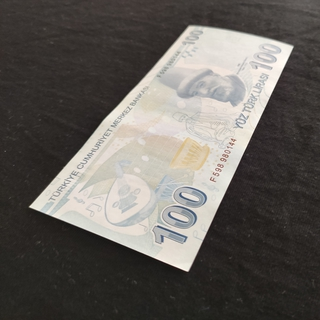100TLBack: (28, 23, 295, 273)
